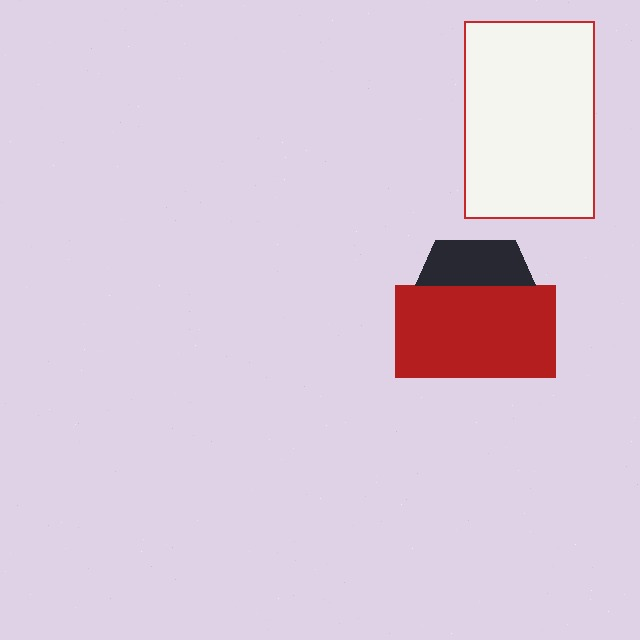book: (464, 21, 594, 218)
vehicle: (395, 240, 555, 377)
